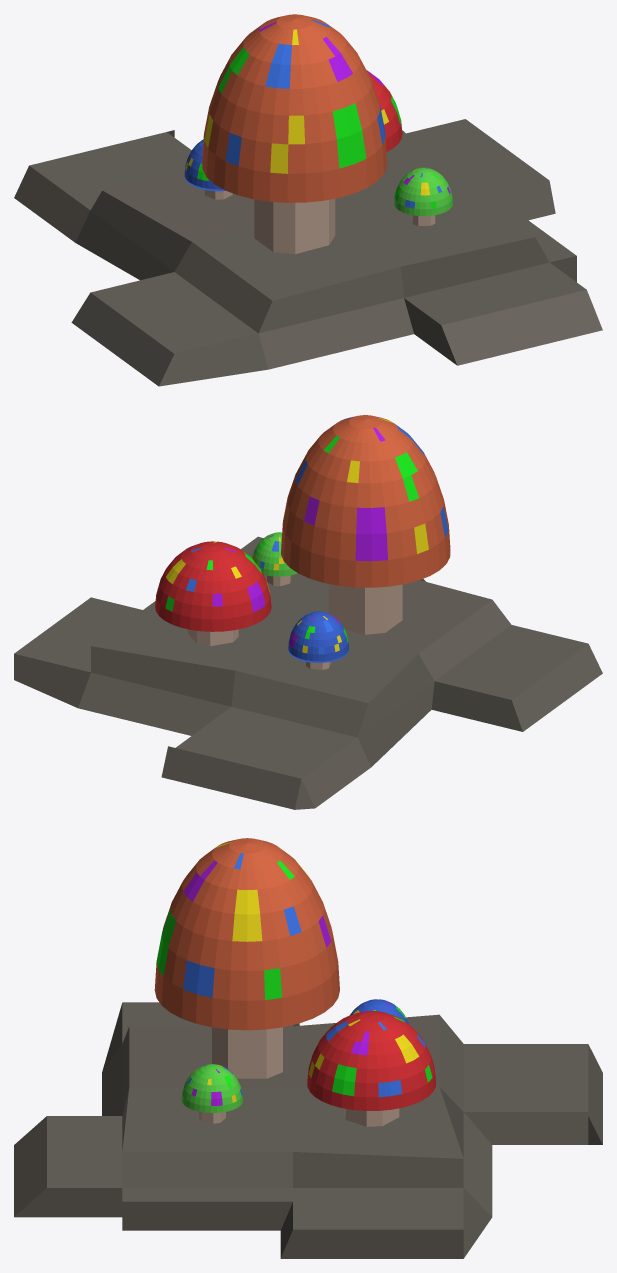
Rendered from mushroom cluster.gltf.
3 views of the same model, one above another, from view 1: azimuth 30°, elevation 25°; view 2: azimuth 150°, elevation 25°; view 3: azimuth 270°, elevation 25° (orthographic). The views are drawn at different scales.
Visible parts, largest first — view 1: Cube.001, Sphere, Cube, Sphere.002, Sphere.001, Sphere.003; view 2: Cube.001, Sphere, Sphere.001, Cube, Sphere.003, Sphere.002, Cube.002; view 3: Cube.001, Sphere, Sphere.001, Cube, Sphere.002, Cube.002, Sphere.003.
Boxes of the visible parts, x1,y1,x2,y2 form: Cube.001: (14, 119, 602, 386); Sphere: (202, 14, 387, 202); Cube: (254, 198, 335, 254); Sphere.002: (394, 167, 452, 216); Sphere.001: (367, 70, 402, 151); Sphere.003: (184, 139, 222, 189); Cube.001: (14, 536, 602, 809); Sphere: (281, 415, 450, 587); Sphere.001: (155, 541, 271, 631); Cube: (328, 584, 402, 634); Sphere.003: (288, 611, 348, 661); Sphere.002: (252, 532, 297, 576); Cube.002: (188, 629, 238, 646); Cube.001: (14, 1002, 602, 1258); Sphere: (154, 838, 339, 1030); Sphere.001: (307, 1011, 435, 1110); Cube: (212, 1027, 282, 1078); Sphere.002: (181, 1064, 243, 1112); Cube.002: (344, 1108, 399, 1126); Sphere.003: (349, 999, 408, 1024).
Size of the model in its own units: 3.4 by 1.88 by 3.6.
